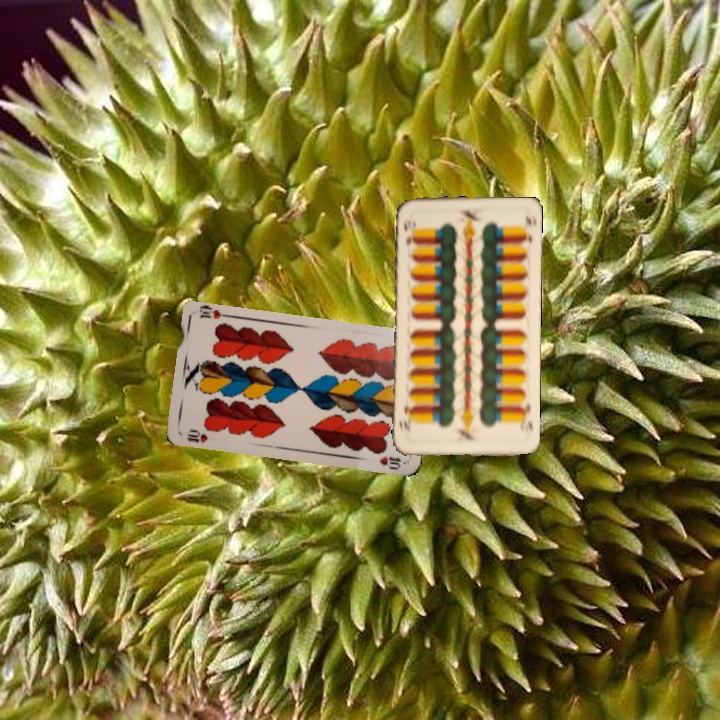E10: (516, 401, 535, 434), (400, 214, 416, 249)
H10: (183, 425, 211, 446)
